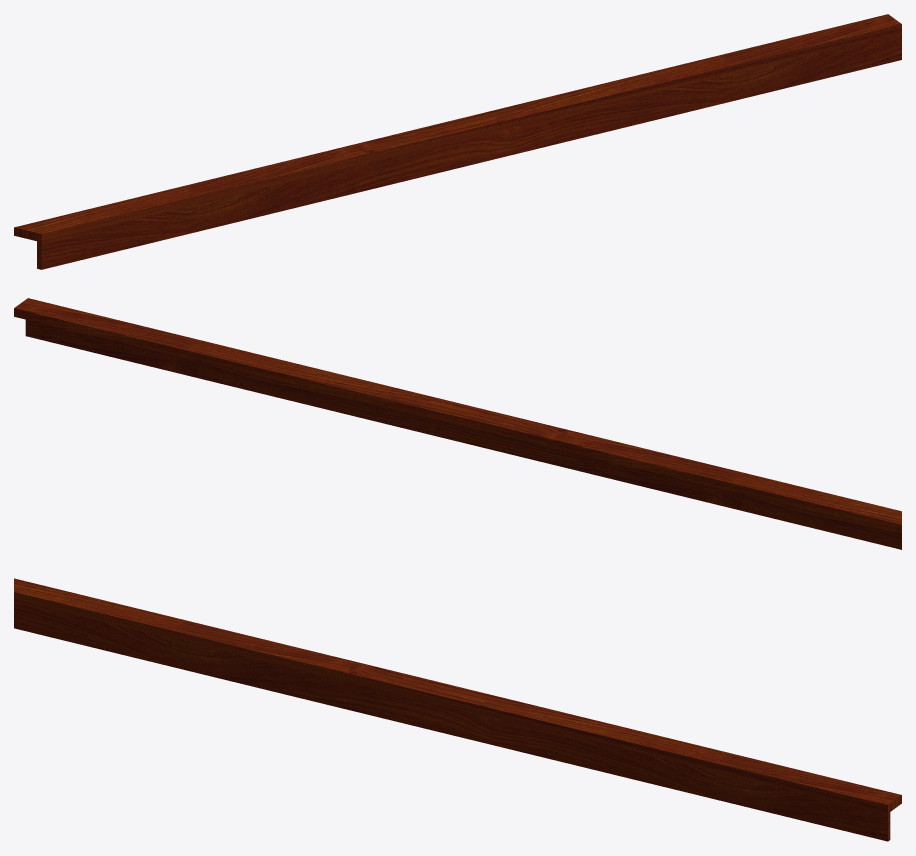
File: mentaoxian.fbx
3 views of the same model, one above another, from view 1: azimuth 30°, elevation 25°; view 2: azimuth 150°, elevation 25°; view 3: azimuth 330°, elevation 25° (orthographic).
Parts seen in each view (by area): view 1: mentaoxian3:polySurface26; view 2: mentaoxian3:polySurface26; view 3: mentaoxian3:polySurface26.
Boxes of the visible parts, x1,y1,x2,y2 form: mentaoxian3:polySurface26: [14, 14, 901, 269]; mentaoxian3:polySurface26: [14, 298, 901, 549]; mentaoxian3:polySurface26: [14, 578, 901, 841].
Bounding box in the file's own units: 220 × 8.61 × 6.
1 material, 1 textured.
